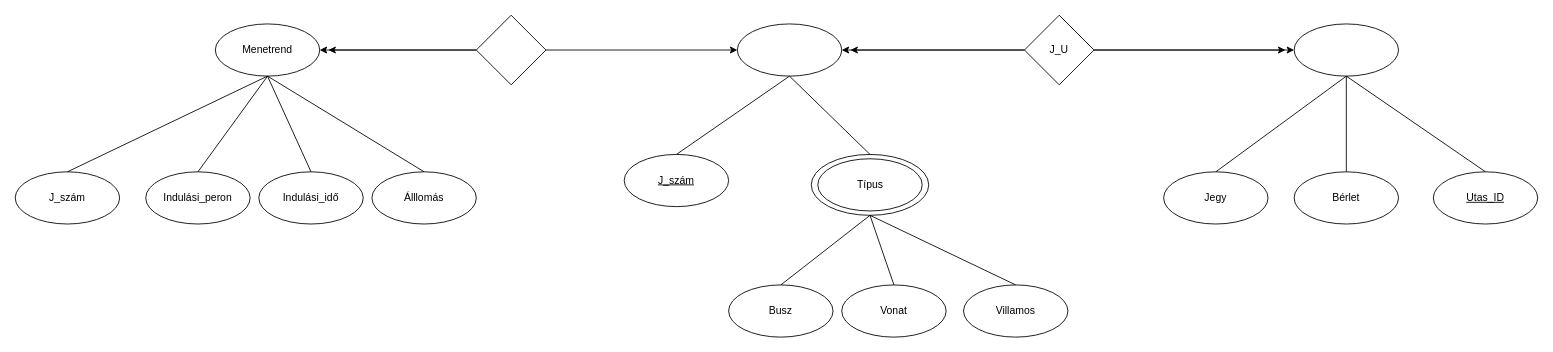
The diagram is 1553 pixels wide and 352 high, and some of its shapes have lost their labels. Here are the shapes that lost their labels. From the top down, the centre of each, then its label:
(x=510, y=49): M_J
(x=789, y=49): Jármű
(x=1346, y=49): Utas
